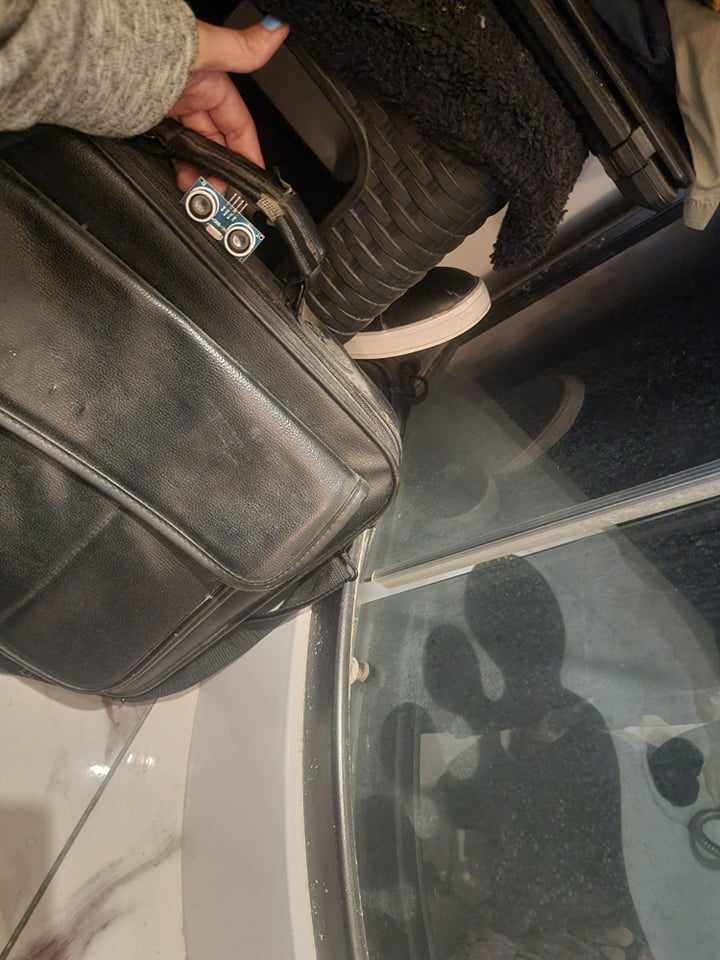SENSOR: (180, 172, 266, 262)
